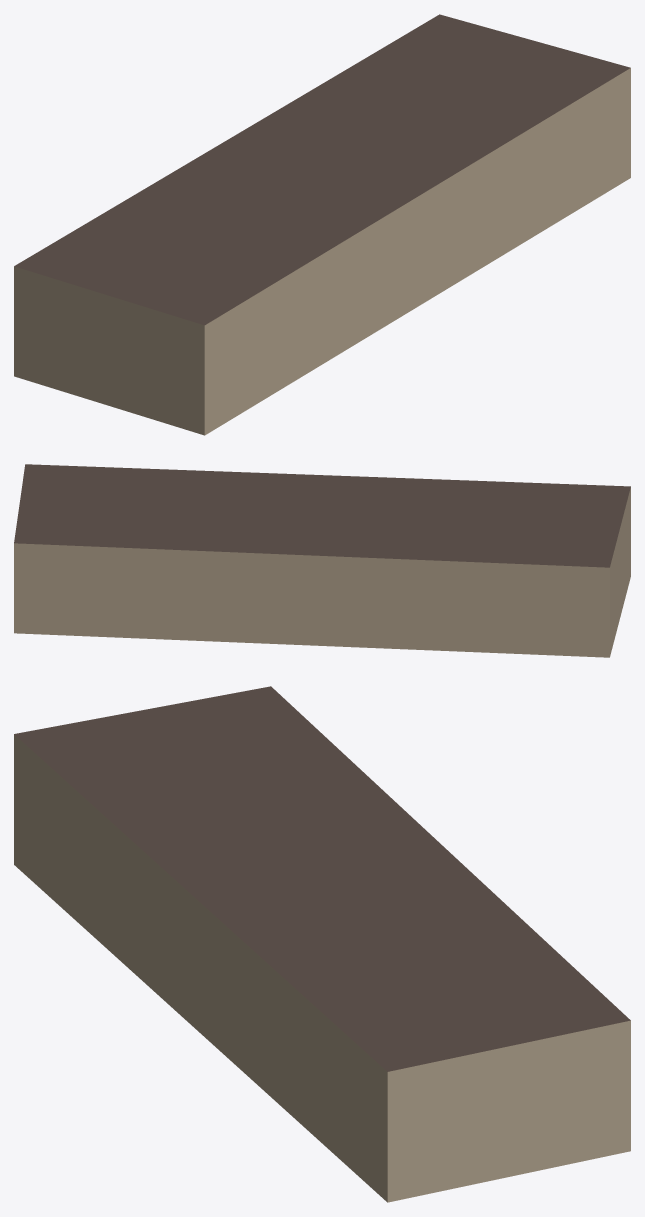
3 renders of one model, top to bottom at view 1: azimuth 30°, elevation 25°; view 2: azimuth 150°, elevation 25°; view 3: azimuth 270°, elevation 25°, orthographic. The views are drawn at different scales.
Visible parts, largest first — view 1: HP-w1215633431; view 2: HP-w1215633431; view 3: HP-w1215633431.
Part boxes in pixels (x1=…): HP-w1215633431: x1=14, y1=14, x2=630, y2=435; HP-w1215633431: x1=14, y1=464, x2=630, y2=657; HP-w1215633431: x1=14, y1=686, x2=630, y2=1202.
Size of the model in its own units: 56.95 by 9 by 38.51.
